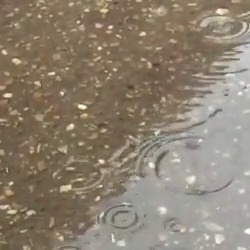drop: (52, 158, 106, 194), (97, 201, 146, 233), (199, 14, 248, 40), (164, 219, 181, 233)
